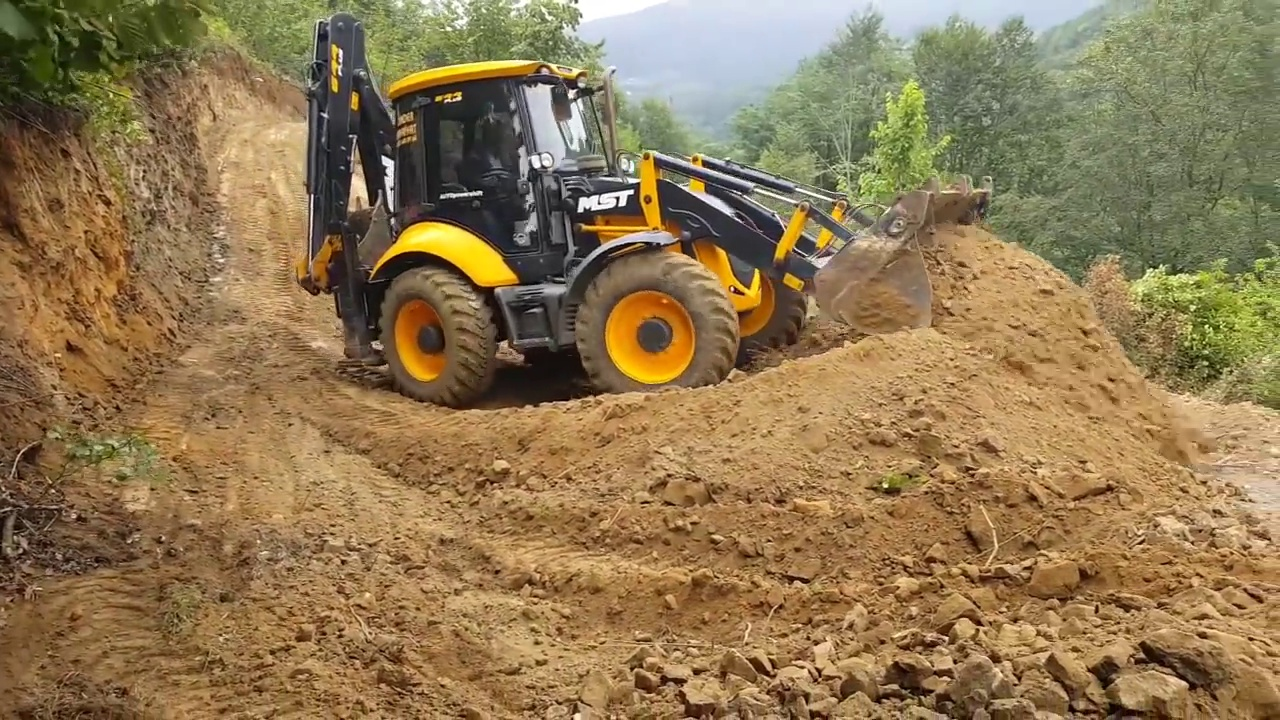wheel loader: (296, 7, 1014, 404)
